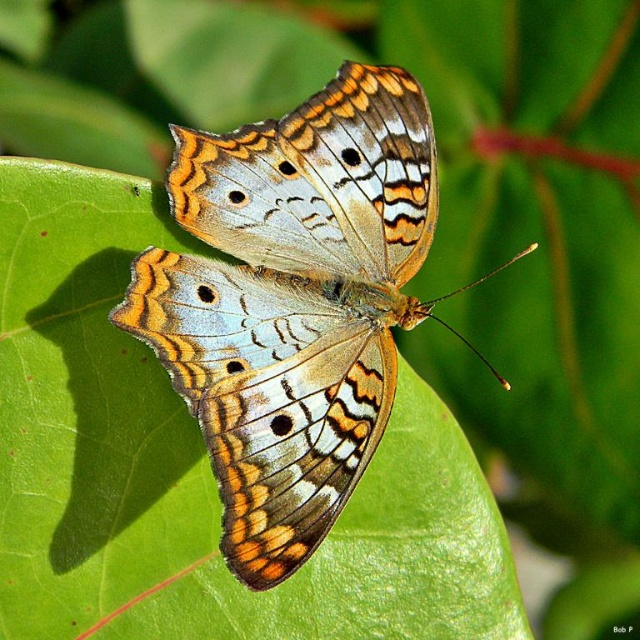Butterfly: (114, 61, 548, 601)
